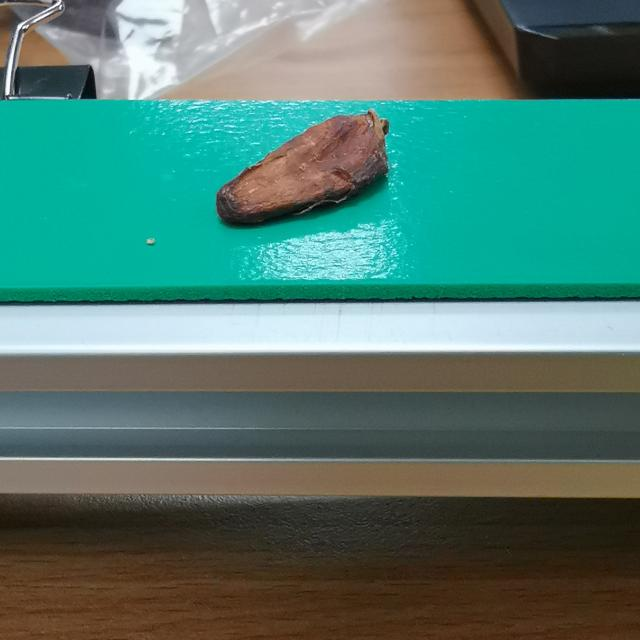Flat_cocoabeans: (195, 91, 458, 256)
